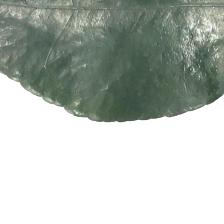healthy: (2, 2, 224, 117)
